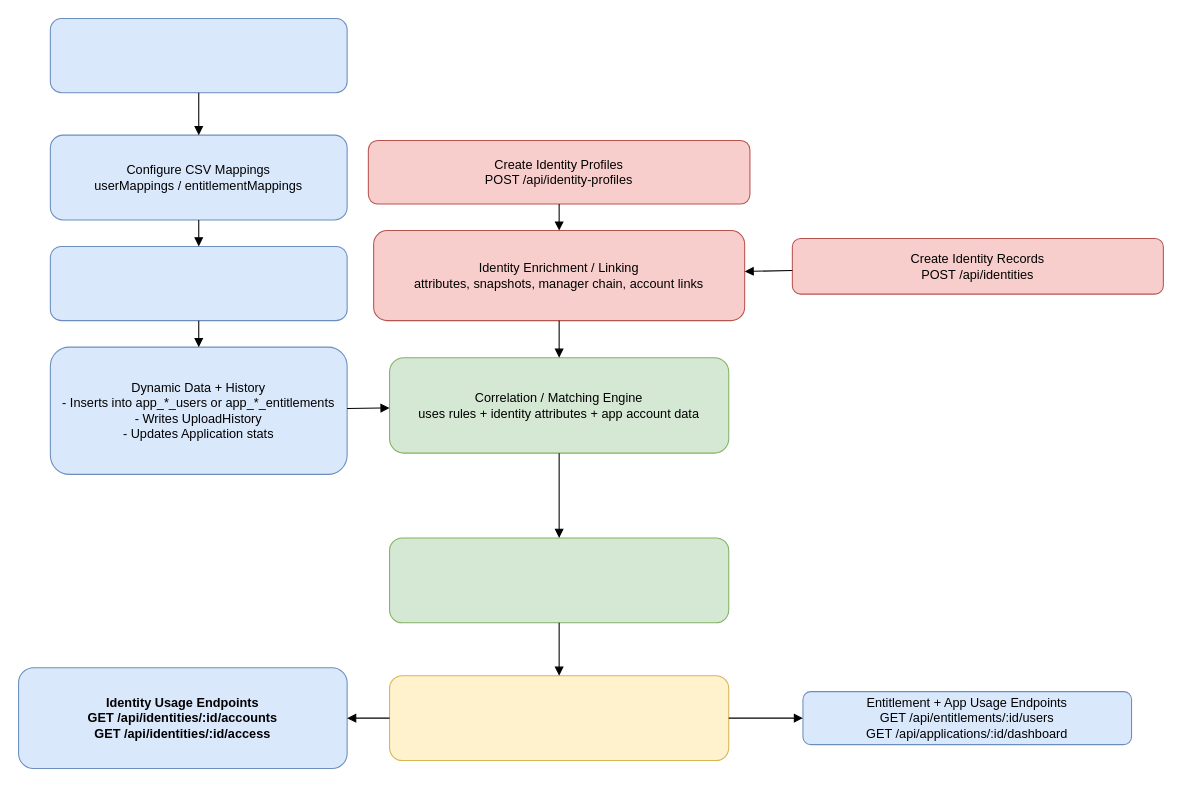
Some shapes in this 1182 by 788 pixel diagram are drawn without their labels. The shapes that lost their labels are listed below. From the top down, each one's centre as x and y in pixels, then its label:
pixel 198 55: Create Application Registry POST /api/applications
pixel 198 283: Upload CSV Data POST /api/applications/:id/upload
pixel 558 580: Outputs Linking Artifacts AccountAggregation_v2 correlation_results
pixel 558 718: Access Layer Data Becomes Queryable Accounts + Entitlements (app-scoped)
